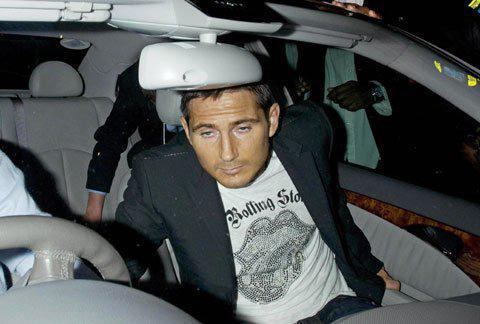Drunk: (185, 95, 269, 187)
